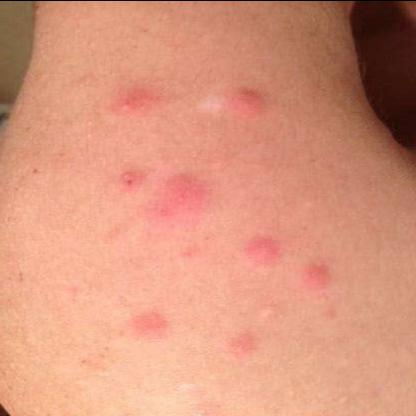Bed Bug: (147, 163, 215, 233), (232, 80, 276, 121), (105, 88, 163, 118), (242, 236, 284, 270), (126, 312, 172, 342), (226, 326, 263, 363), (307, 261, 339, 297), (118, 160, 146, 194), (172, 246, 208, 264), (319, 305, 343, 325)
